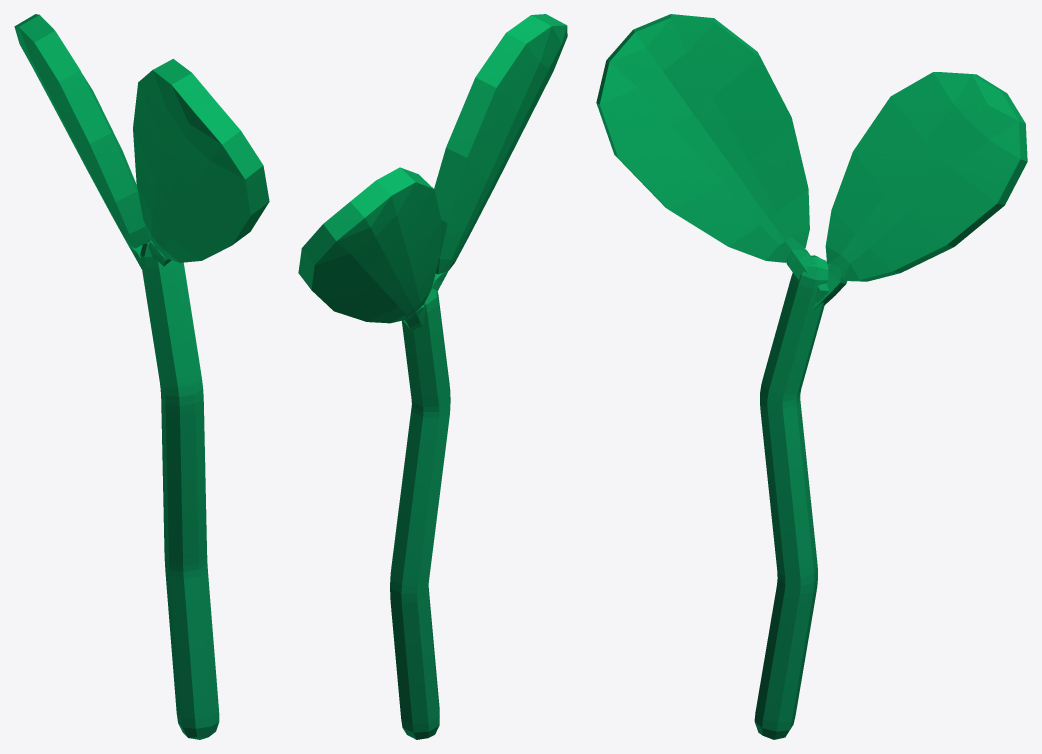
Rendered from Muda.fbx.
The picture shows the model from 3 angles, left to right: view 1: azimuth 30°, elevation 25°; view 2: azimuth 150°, elevation 25°; view 3: azimuth 270°, elevation 25°; orthographic projection. The views are drawn at different scales.
Visible parts, largest first — view 1: Plane; view 2: Plane; view 3: Plane.
Part boxes in pixels (x1,y1,x2,y2): Plane: (14, 14, 269, 739); Plane: (298, 14, 567, 739); Plane: (596, 14, 1027, 739).
Size of the model in its own units: 8.02 by 55.65 by 31.4.
Materials: 1 (1 with a texture image).
